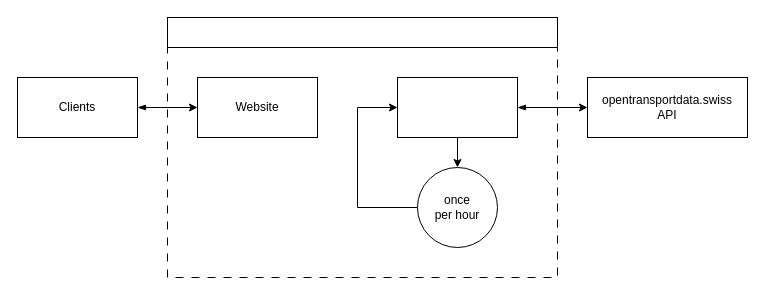
Some shapes in this 765 by 295 pixel diagram are drawn without their labels. The shapes that lost their labels are listed below. From the top down, each one's centre as x and y in pixels, then its label:
the point at 362,32: Dioxus
the point at 457,107: Crawl Thread
